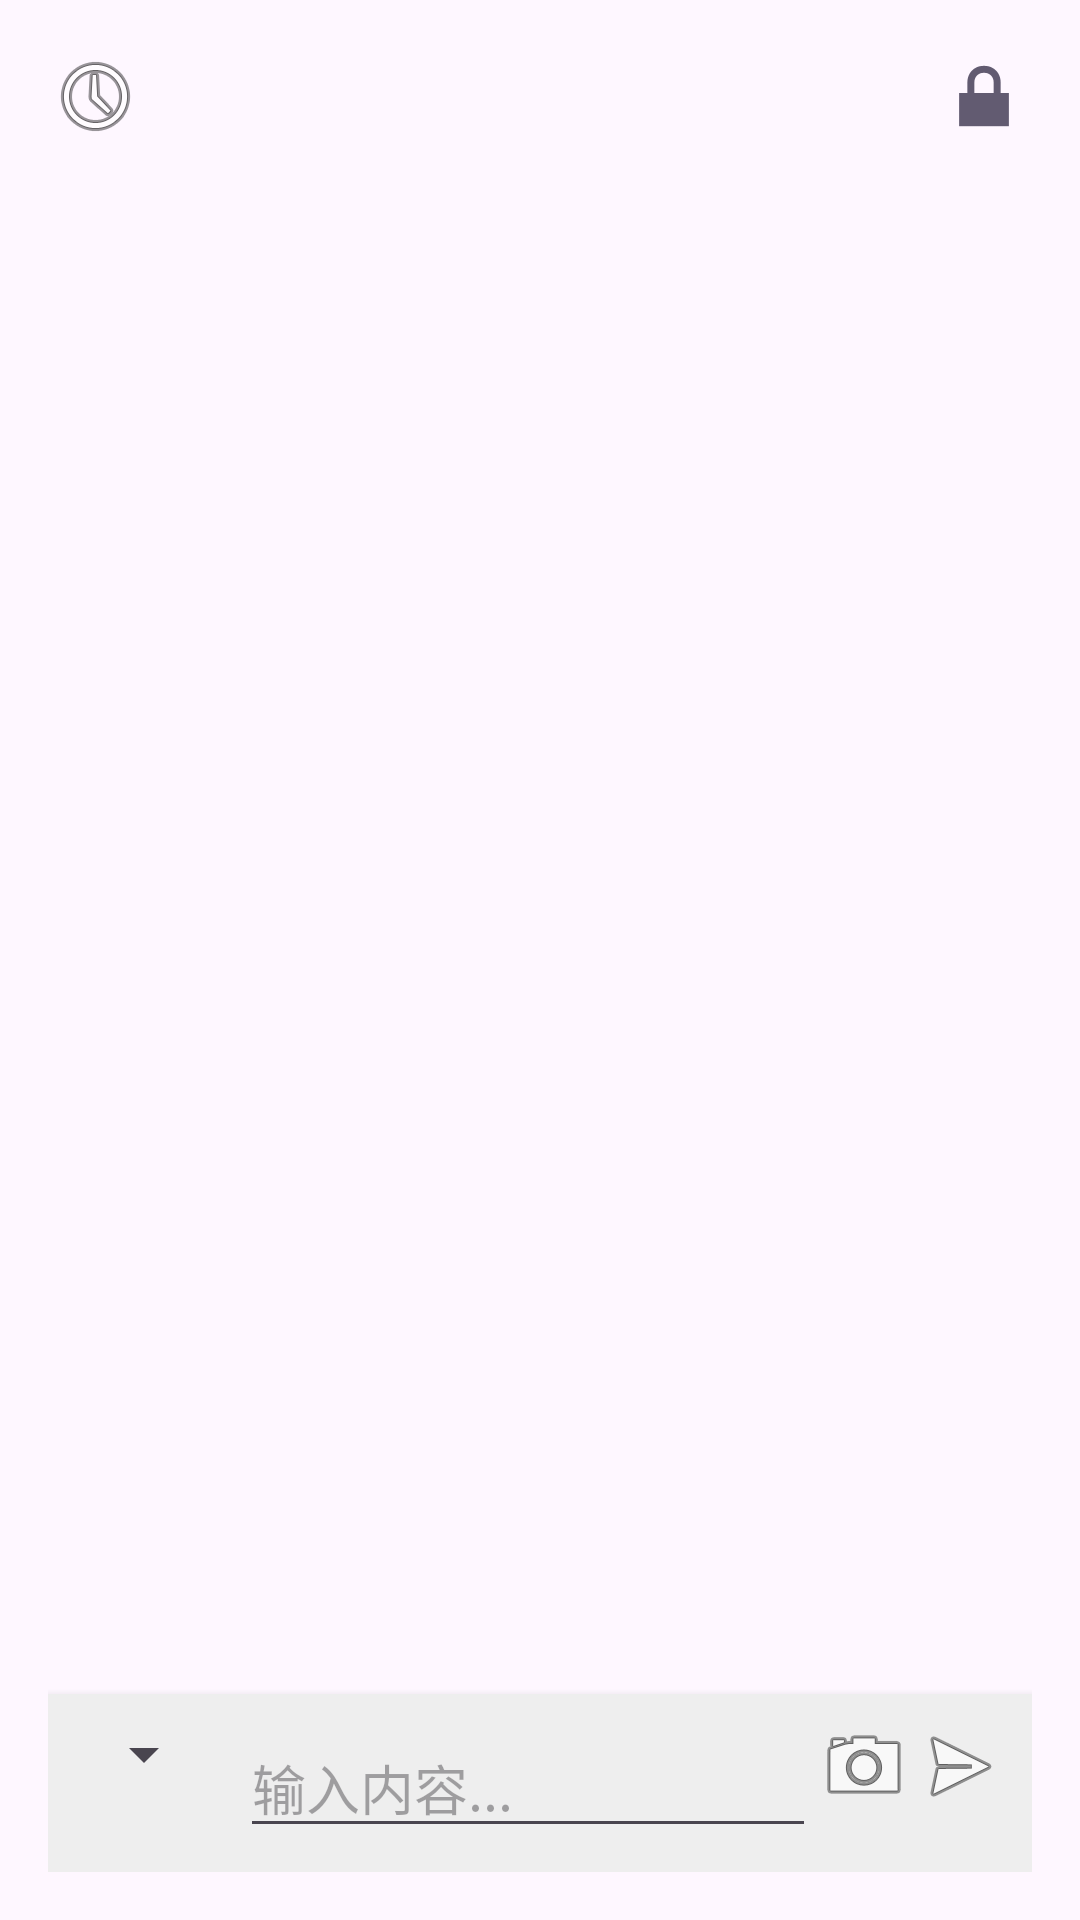

Screen size 1080px x 1920px. Icon name, then its box in pixels as Rect(x1, y1, x2, y2):
Camera: Rect(827, 1735, 901, 1794)
Send: Rect(930, 1736, 992, 1797)
历史记录: Rect(61, 62, 130, 131)
登录: Rect(959, 65, 1009, 127)
